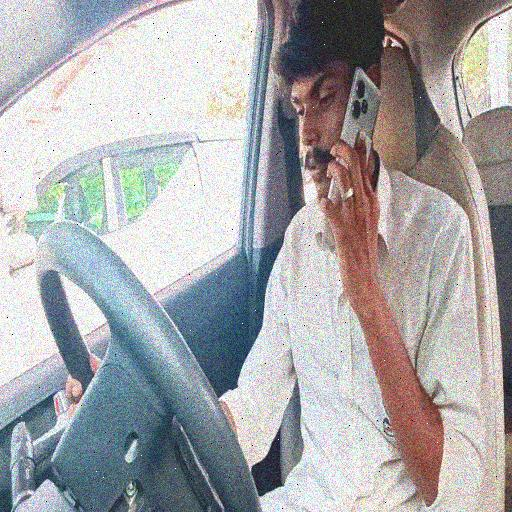Talking_on_phone: (271, 0, 486, 495)
